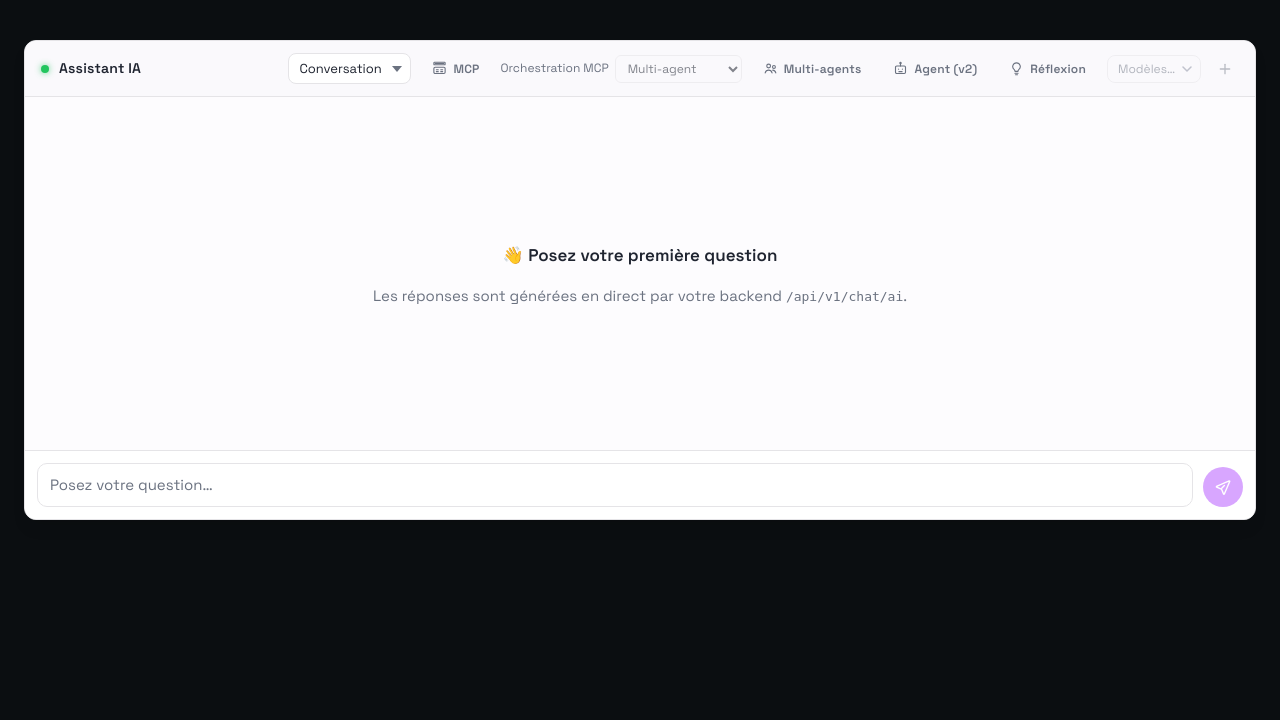
Scenario: ChatWindow - sélecteur d’orchestration MCP › affiche une synthèse partielle quand la phase de synthèse expire
Click the button "MCP".
click(456, 68)  # box 421,54 -> 490,82
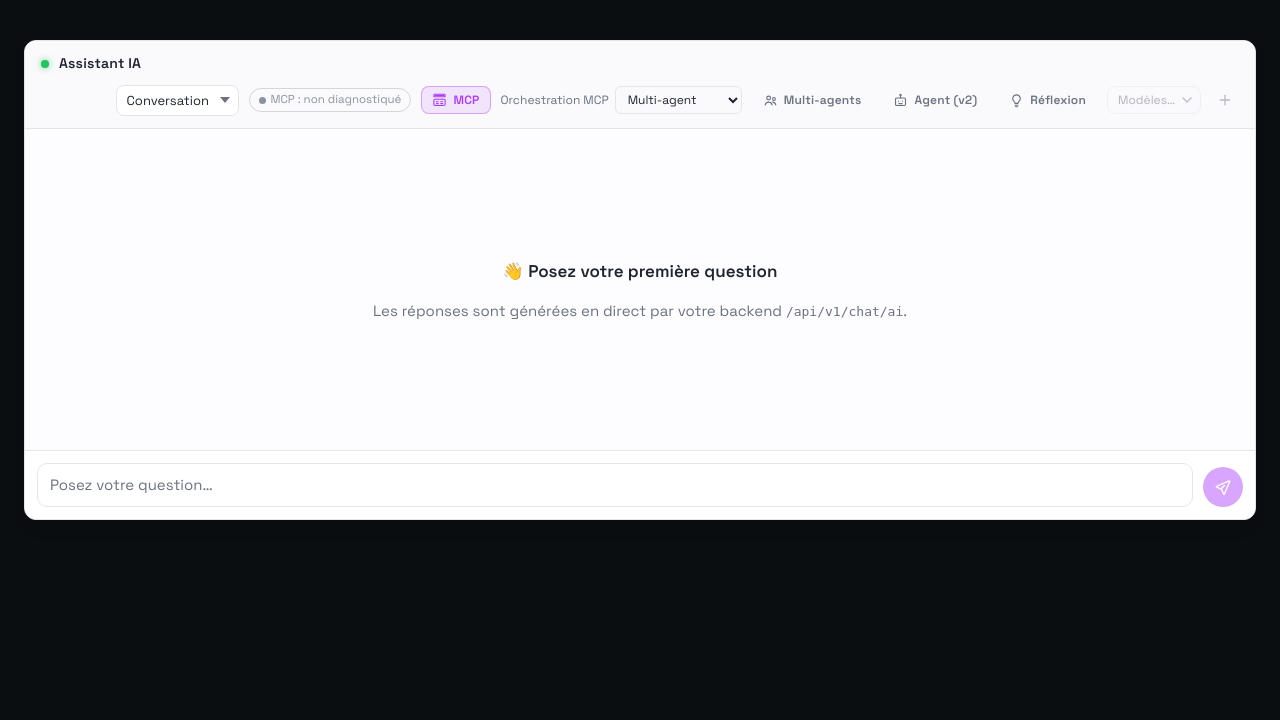
Type "Analyse avec synthèse protégée" into the text box named "Votre message".
click(615, 485); type("Analyse avec synthèse protégée")  # box 37,463 -> 1193,507
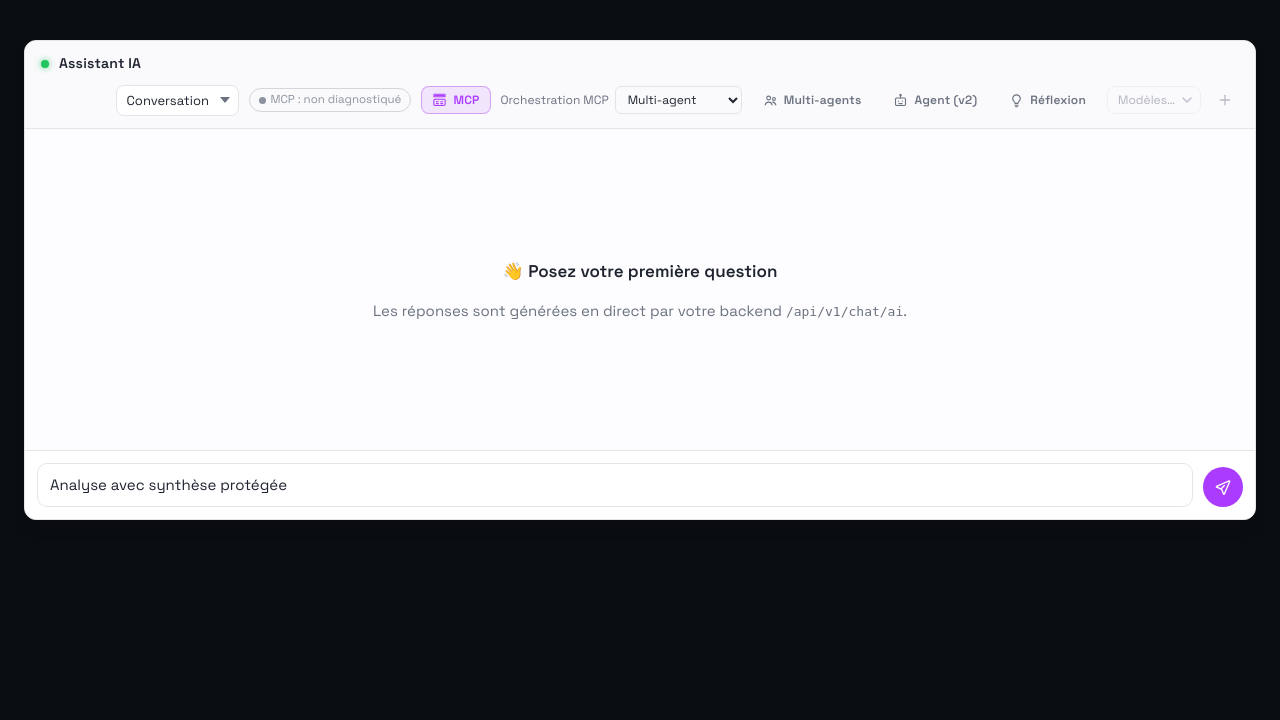
Click the button named "Envoyer".
click(1223, 487)  # box 1203,467 -> 1243,507
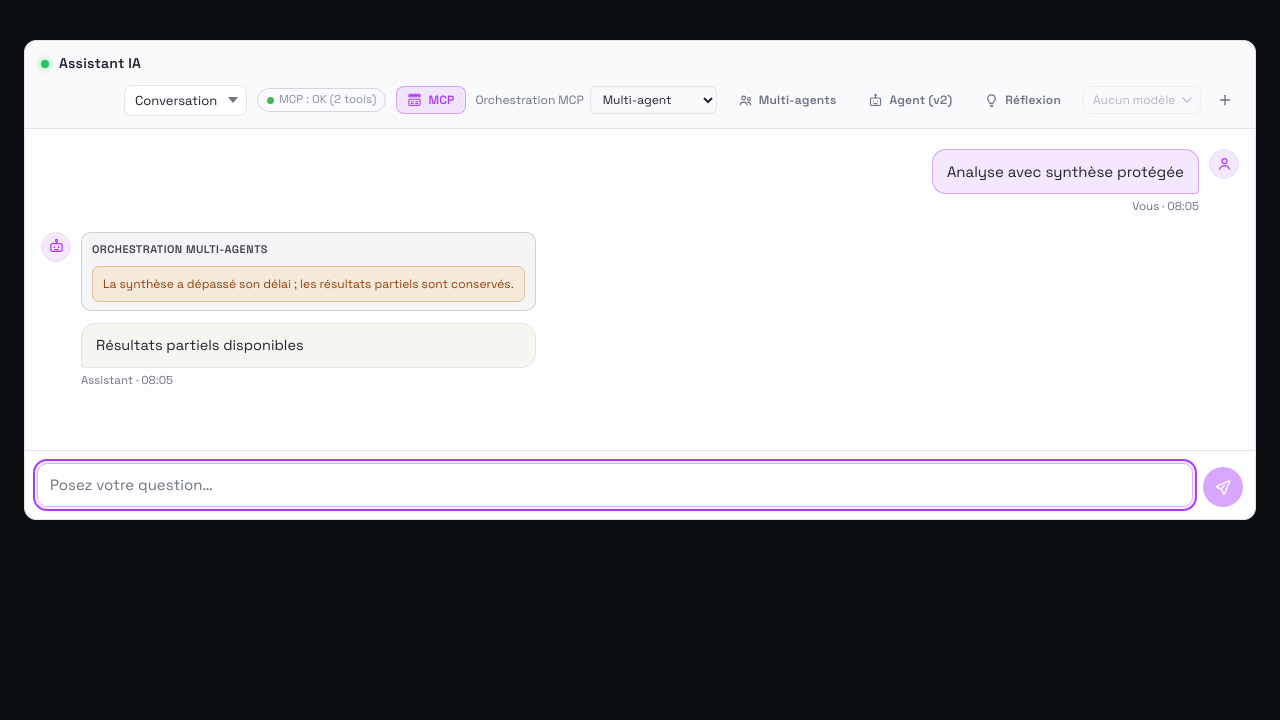
Now the text "La synthèse a dépassé son délai ; les résultats partiels sont conservés." is shown, box 92,266 -> 525,302
Now the text "Résultats partiels disponibles" is shown, box 96,336 -> 304,354
